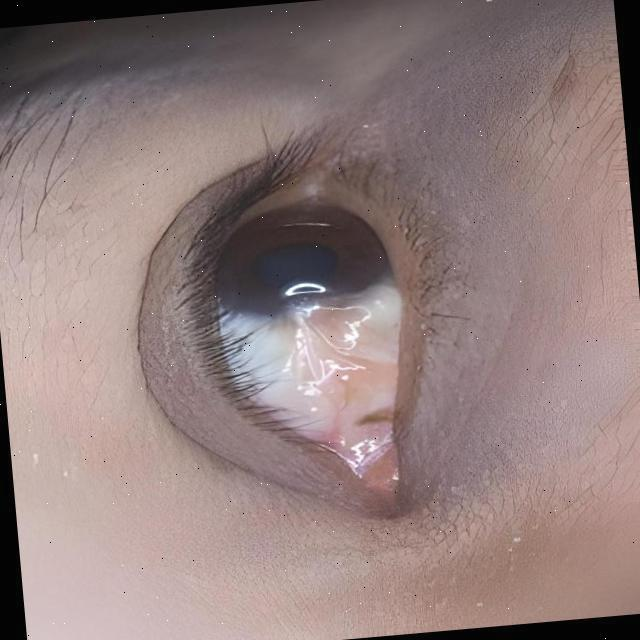Pterygium: (256, 258, 408, 477)
